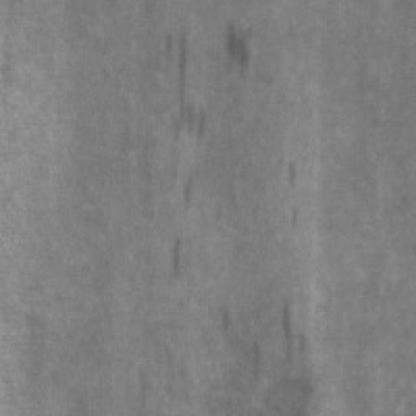inclusion: (152, 27, 210, 146), (237, 295, 310, 387), (212, 15, 256, 79), (158, 225, 192, 289)
